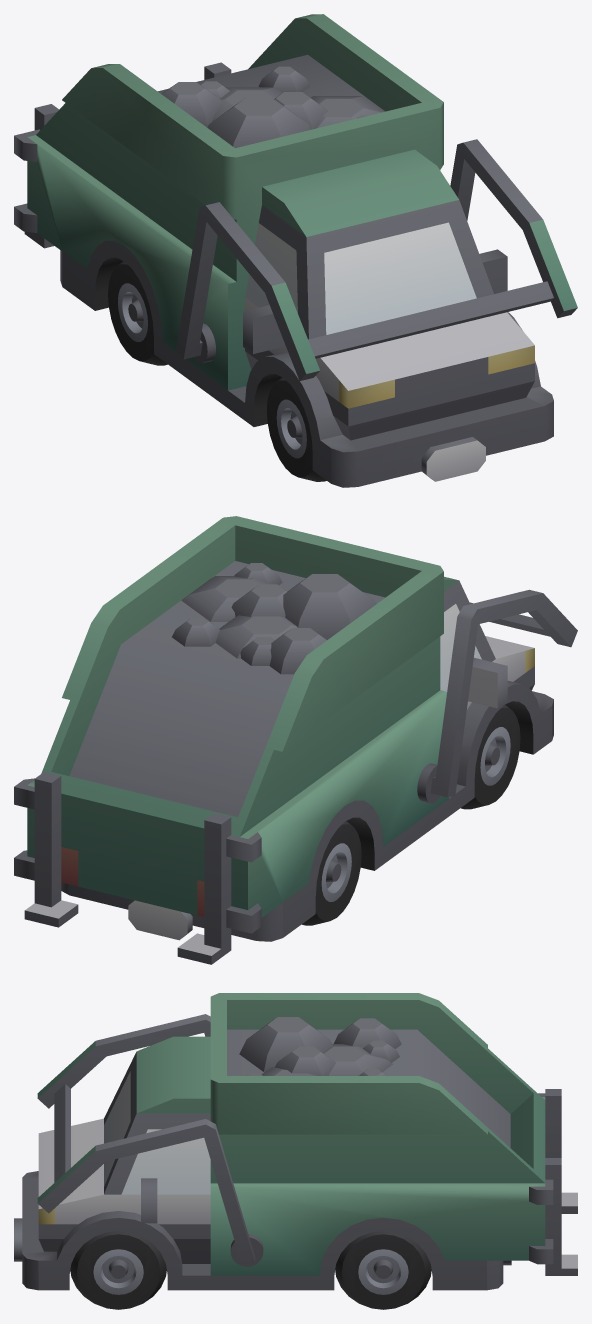
File: kenney_garbage-truck.glb
The picture shows the model from 3 angles, top to bottom: view 1: azimuth 30°, elevation 25°; view 2: azimuth 150°, elevation 25°; view 3: azimuth 270°, elevation 25°; orthographic projection. The views are drawn at different scales.
Parts seen in each view (by area): view 1: body, arm, trash, wheel-back-right, wheel-front-right; view 2: body, trash, arm, wheel-front-right, wheel-back-right; view 3: body, arm, trash, wheel-front-left, wheel-back-left.
Boxes of the visible parts, x1,y1,x2,y2 form: body: (14, 14, 553, 487); arm: (176, 139, 577, 380); trash: (161, 66, 385, 148); wheel-back-right: (108, 261, 167, 365); wheel-front-right: (266, 377, 326, 481); body: (14, 516, 553, 964); trash: (172, 563, 376, 674); arm: (417, 589, 577, 803); wheel-front-right: (461, 704, 520, 809); wheel-back-right: (302, 821, 361, 925); body: (14, 993, 577, 1290); arm: (37, 1014, 263, 1266); trash: (239, 1017, 401, 1075); wheel-front-left: (70, 1231, 166, 1309); wheel-back-left: (335, 1231, 431, 1309).
Size of the model in its own units: 1.6 by 1.6 by 3.45.
Materials: 1 (1 with a texture image).
